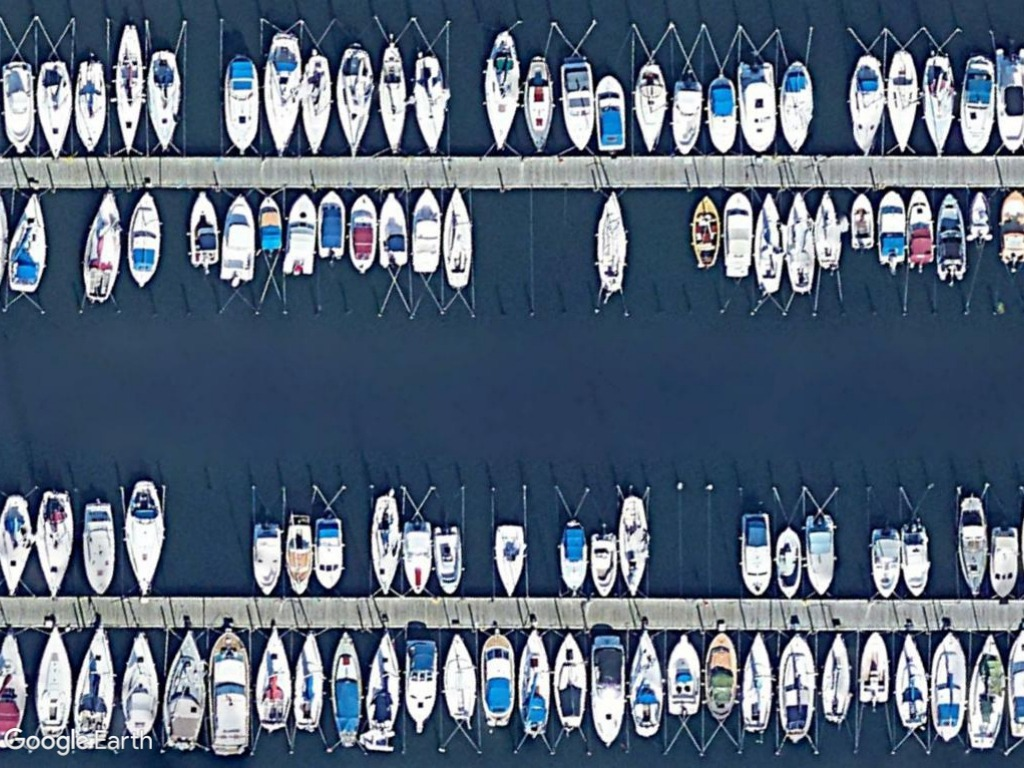boat: (68, 616, 123, 753), (159, 623, 214, 755), (202, 623, 253, 756), (74, 187, 130, 307), (117, 474, 171, 598), (1, 185, 56, 299), (959, 631, 1009, 753), (115, 622, 164, 746), (258, 32, 304, 157), (478, 29, 524, 153), (359, 627, 404, 753), (586, 630, 631, 756), (108, 17, 148, 156), (331, 45, 378, 158), (511, 625, 555, 741), (925, 628, 969, 743), (30, 623, 72, 742), (406, 50, 452, 157), (775, 630, 817, 746), (34, 489, 77, 601), (589, 188, 633, 297), (885, 632, 932, 734), (549, 627, 592, 738), (473, 627, 517, 734), (288, 624, 331, 733), (362, 490, 405, 598), (76, 495, 119, 602), (626, 627, 666, 741), (123, 188, 168, 289), (218, 53, 262, 156), (31, 53, 75, 156), (0, 489, 41, 599), (216, 190, 262, 288), (327, 627, 363, 751), (735, 627, 776, 735), (956, 52, 997, 160), (143, 50, 184, 158), (371, 41, 409, 157), (399, 633, 442, 734), (253, 622, 291, 735), (733, 59, 777, 156), (613, 492, 653, 598), (297, 51, 337, 157), (555, 54, 596, 157), (952, 488, 990, 598), (776, 55, 817, 155), (628, 58, 669, 158), (916, 51, 954, 157), (436, 188, 474, 292), (0, 56, 37, 162), (817, 629, 856, 729), (750, 187, 785, 298), (846, 52, 883, 157), (440, 629, 480, 726), (70, 57, 109, 156), (518, 55, 556, 156), (279, 190, 322, 278), (884, 45, 918, 156), (736, 507, 776, 600), (783, 188, 817, 297), (701, 627, 738, 725), (405, 186, 444, 278), (666, 68, 703, 159), (801, 508, 837, 601), (720, 189, 756, 282), (664, 631, 701, 720), (183, 183, 221, 269), (398, 516, 437, 599), (247, 518, 286, 601), (489, 520, 530, 598), (344, 189, 379, 280), (592, 73, 630, 156), (931, 189, 966, 278), (280, 514, 317, 598), (375, 189, 412, 273), (809, 182, 843, 273), (553, 514, 590, 597), (702, 72, 739, 155), (870, 186, 908, 266), (686, 189, 722, 272), (429, 522, 467, 600), (897, 519, 933, 599), (856, 628, 892, 707), (312, 515, 348, 594), (865, 522, 901, 600), (987, 521, 1021, 602), (902, 187, 935, 265), (772, 522, 804, 602), (314, 187, 346, 264), (586, 528, 619, 598), (253, 189, 286, 255), (847, 187, 875, 255), (963, 188, 994, 248)
